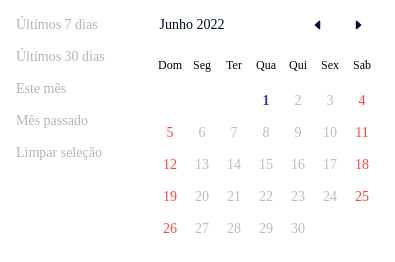
Test: <RangeCalendar /> › should select the current month
Click the button "Este mês".
click(74, 89)  # box 8,73 -> 141,105
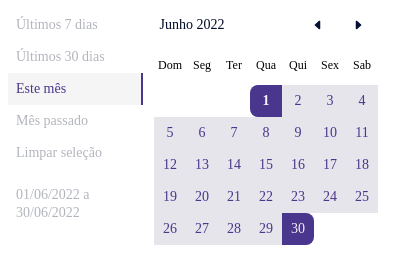
Expected: the text "01/06/2022 a 30/06/2022" is shown, 16,187 -> 90,220
